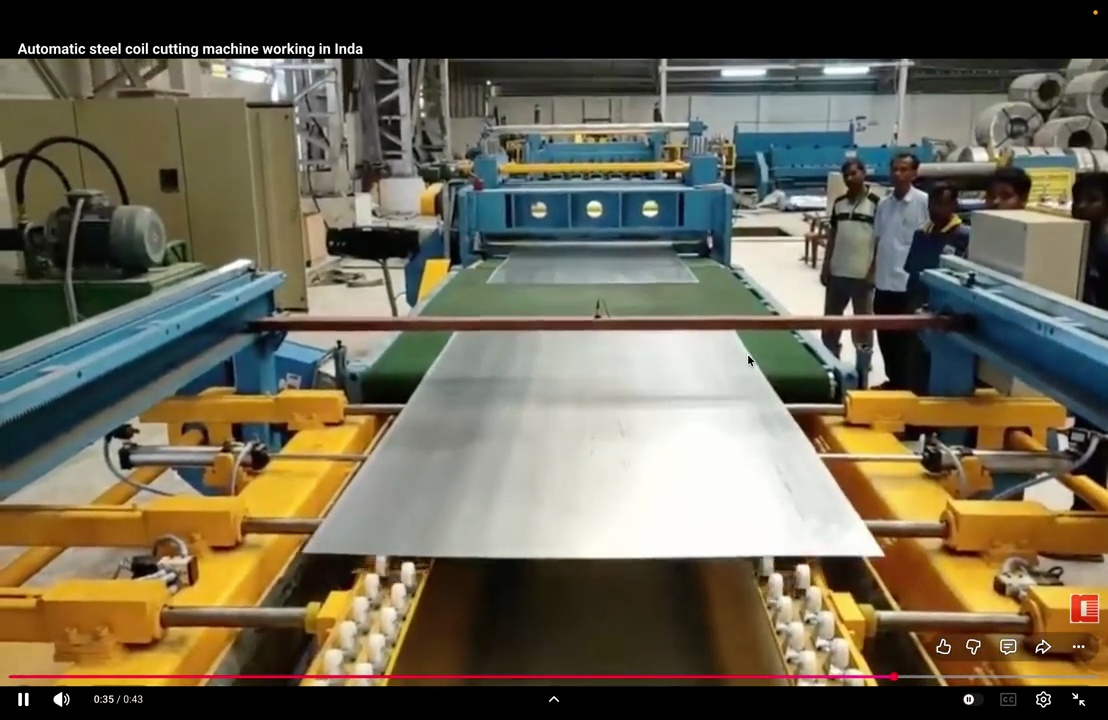steel plate: (306, 331, 881, 558), (488, 243, 697, 284)
